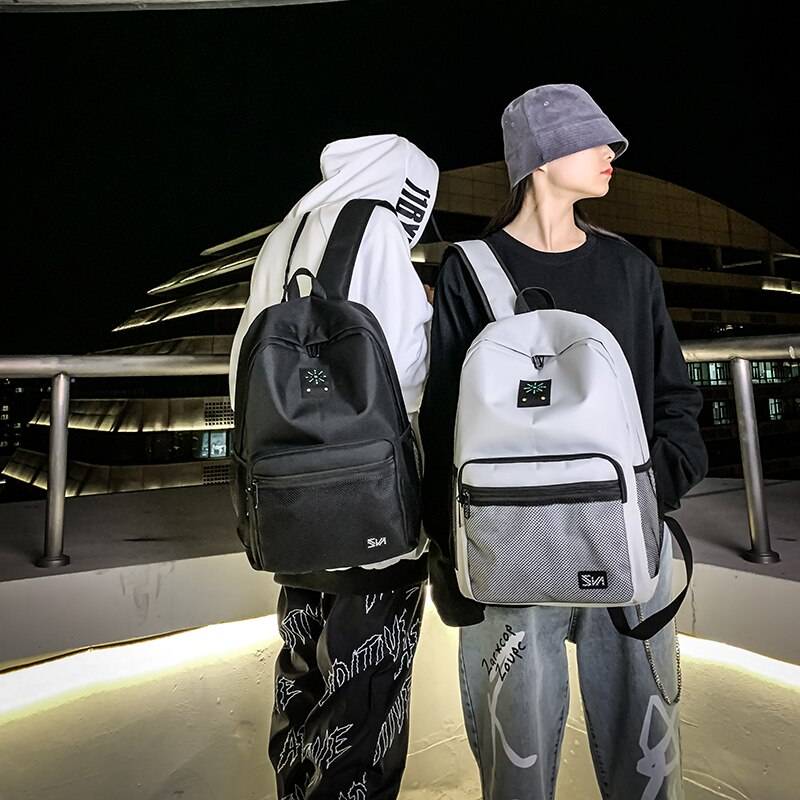Accessories|Hats: (500, 85, 628, 192)
Bottoms|Pants: (457, 602, 686, 800), (266, 578, 427, 800)
Men's Backpacks: (451, 238, 667, 607), (232, 199, 419, 578)
Tops: (429, 227, 703, 525), (225, 129, 438, 408)
